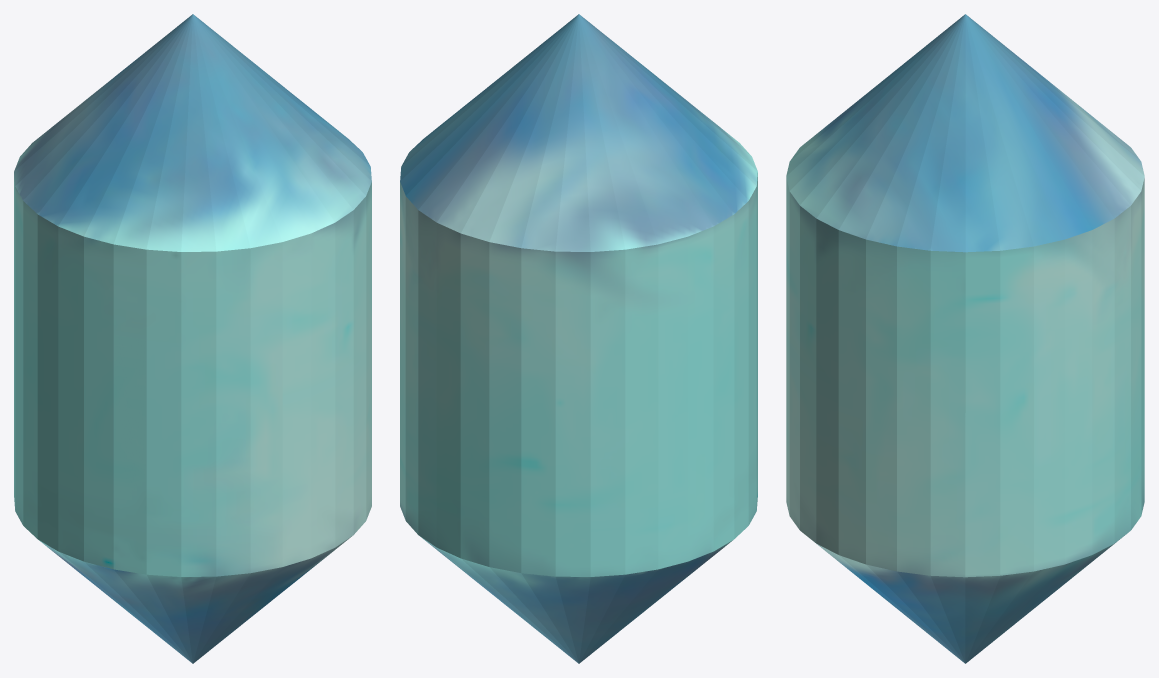
The model's file is EnergyCrystal1.1.fbx.
3 renders of one model, left to right at view 1: azimuth 30°, elevation 25°; view 2: azimuth 150°, elevation 25°; view 3: azimuth 270°, elevation 25°, orthographic.
Visible parts, largest first — view 1: Energy Crystal; view 2: Energy Crystal; view 3: Energy Crystal.
Boxes of the visible parts, x1,y1,x2,y2 form: Energy Crystal: [14, 14, 371, 663]; Energy Crystal: [400, 14, 757, 663]; Energy Crystal: [786, 14, 1144, 663].
Bounding box in the file's own units: 200 × 400 × 200.
